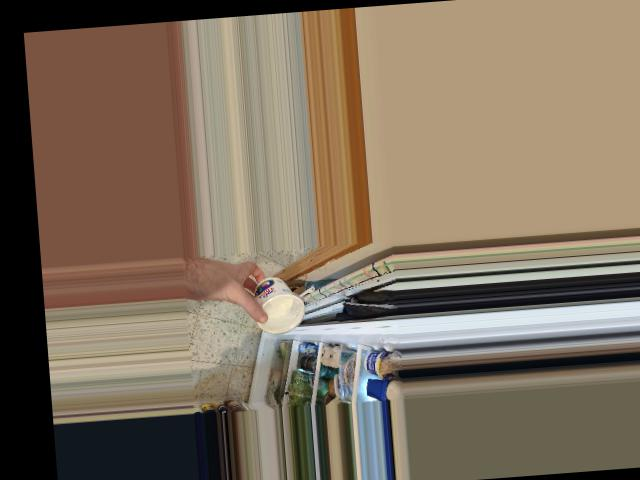cotage: (244, 268, 307, 335)
